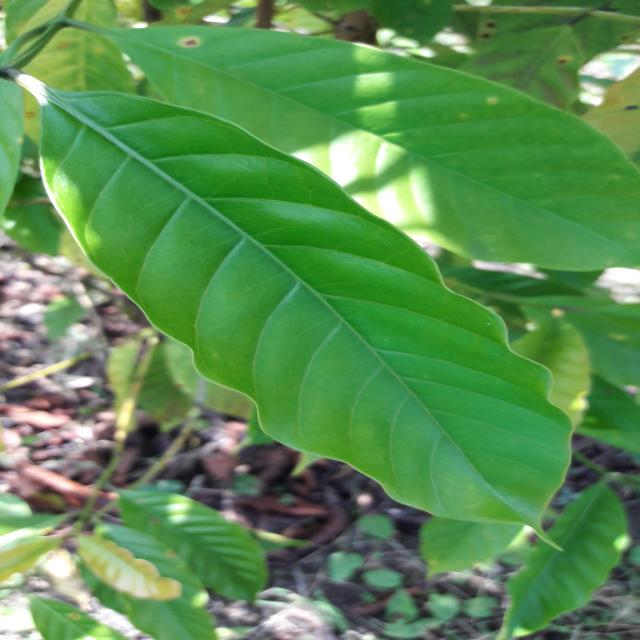Sanas: (7, 80, 574, 532)
